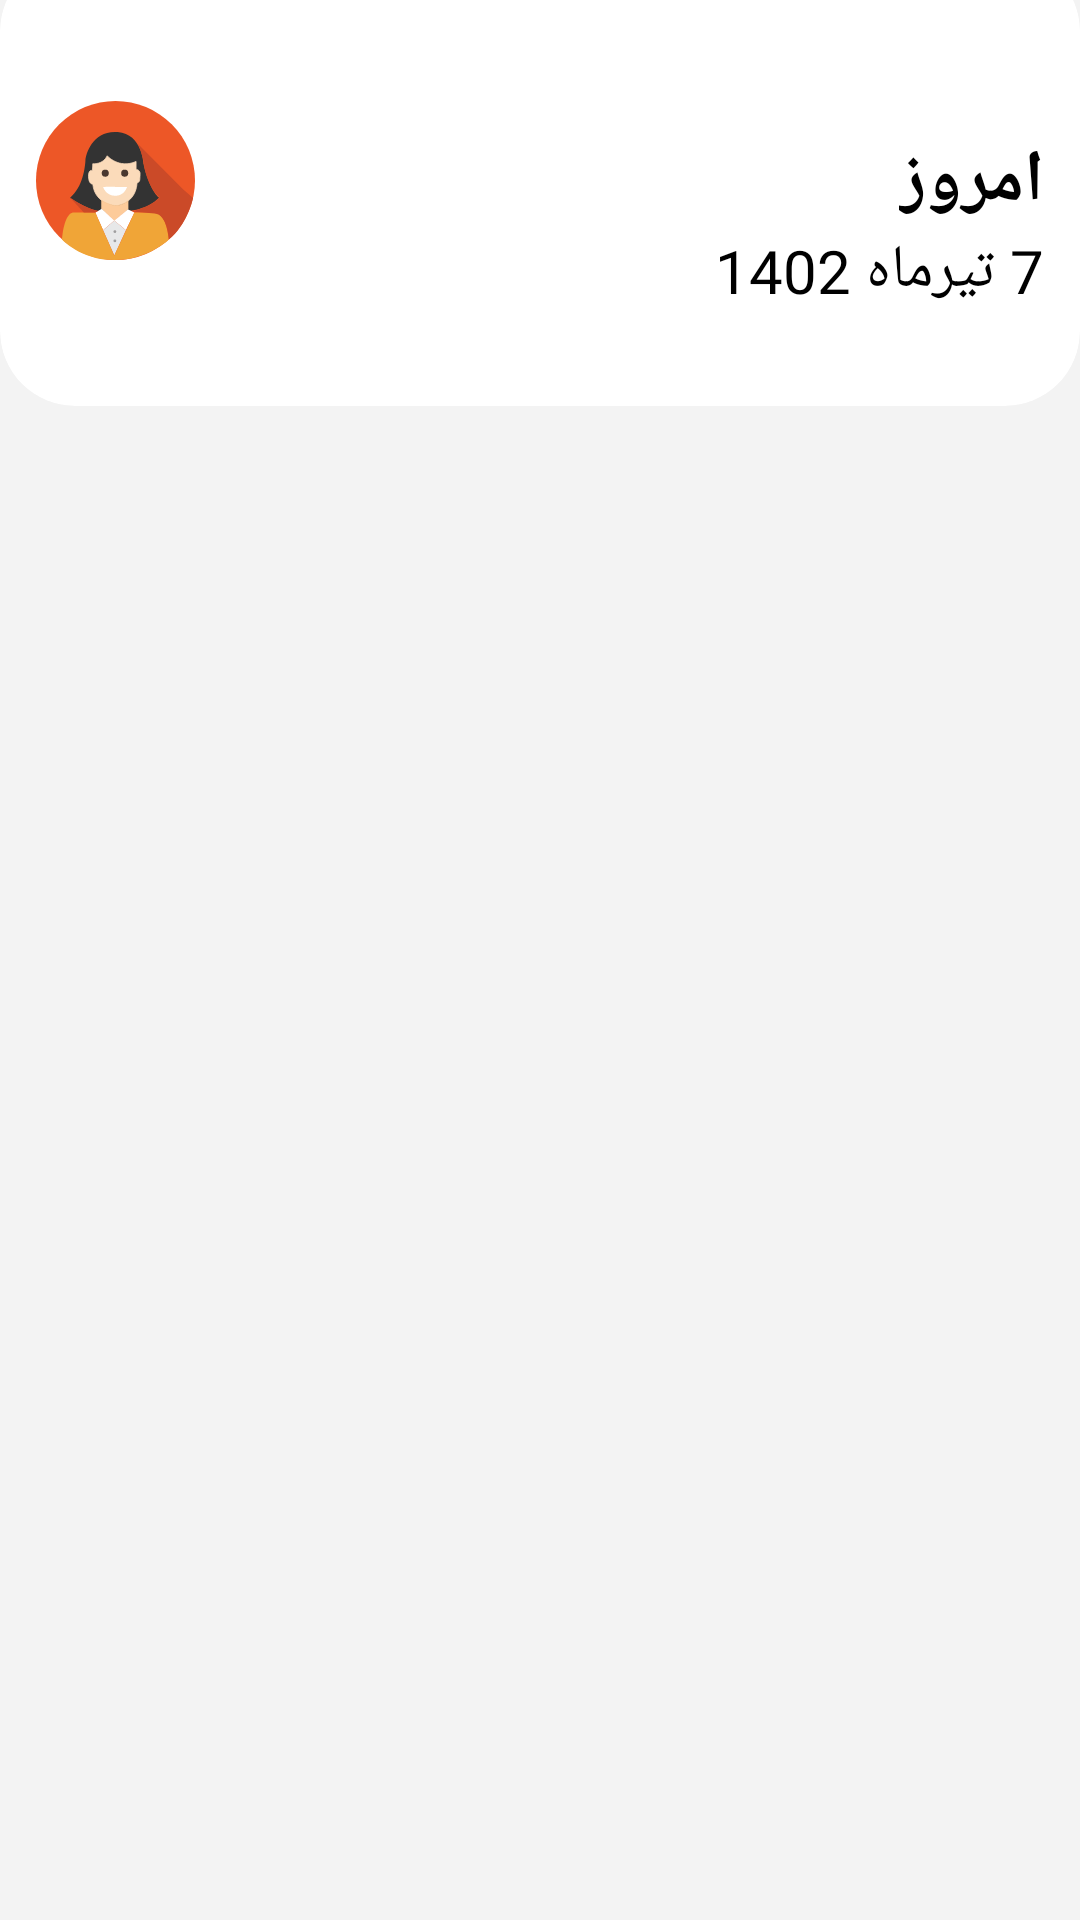

Named icons in this screenshot (1080x1920) and their bounding boxes, (x1, y1, x2, y2):
vectoravatar: (36, 101, 195, 260)
